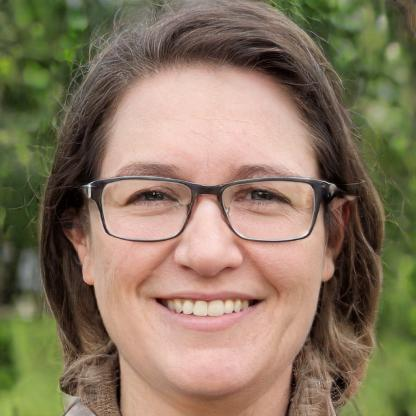glasses: (80, 172, 324, 245)
